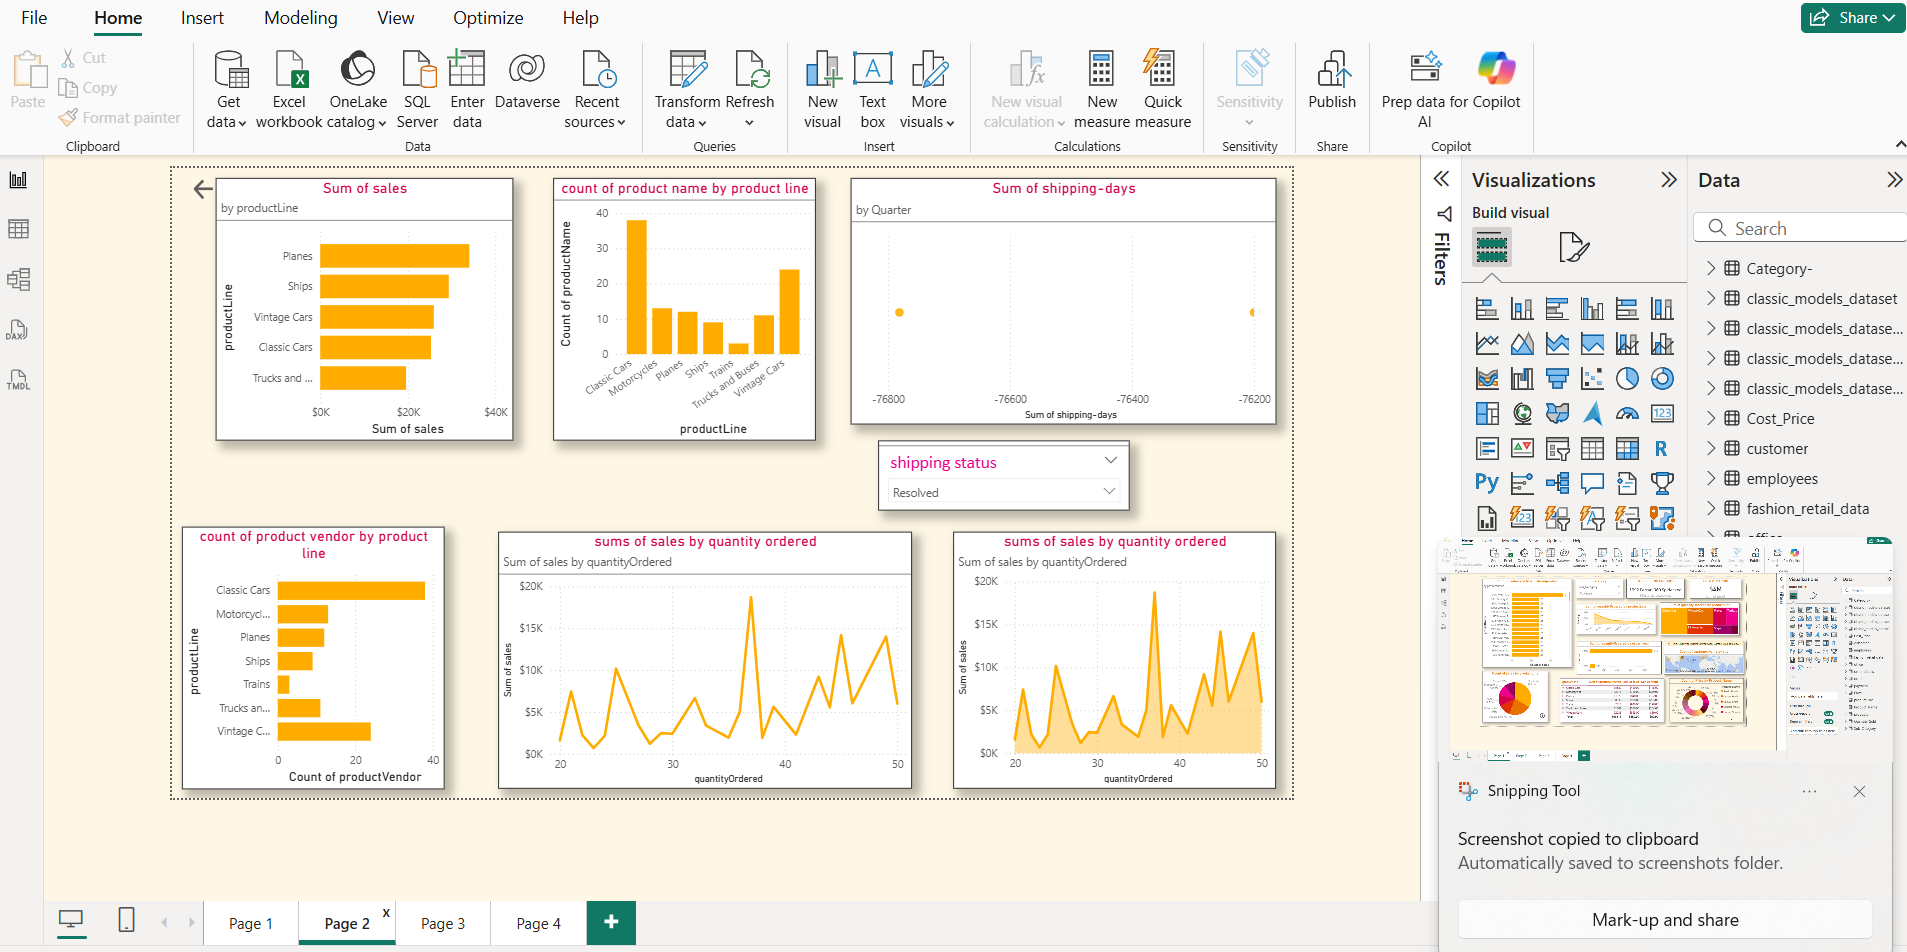

This screenshot's page, from the dashboard's own definition file:
{"tool":"powerbi","page":{"name":"Page 2","canvas":[1280,720],"ordinal":1},"visuals":[{"type":"actionButton","box":[0,0,100,40],"z":0},{"type":"barChart","fields":{"Category":["products.productLine"],"Y":["Sum(order details.sales)"]},"box":[50,11.2,340,300],"z":1000},{"type":"barChart","title":"count of product vendor by product line ","fields":{"Category":["product line.productLine"],"Y":["CountNonNull(products.productVendor)"]},"box":[11.2,410,300,300],"z":2000},{"type":"clusteredColumnChart","title":"count of product name by product line ","fields":{"Category":["product line.productLine"],"Y":["CountNonNull(products.productName)"]},"box":[436.2,11.2,300,300],"z":3000},{"type":"lineChart","title":"sums of sales by quantity ordered ","fields":{"Category":["order details.quantityOrdered"],"Y":["Sum(order details.sales)"]},"box":[372.5,416.2,472.5,293.8],"z":4000},{"type":"scatterChart","fields":{"Category":["orders.shippedDate.Variation.Date Hierarchy.Quarter","orders.shippedDate.Variation.Date Hierarchy.Day"],"X":["Sum(orders.shipping-days)"]},"box":[775,11.2,486.2,281.2],"z":5000},{"type":"areaChart","title":"sums of sales by quantity ordered ","fields":{"Category":["order details.quantityOrdered"],"Y":["Sum(order details.sales)"]},"box":[892.5,416.2,368.8,293.8],"z":6000},{"type":"slicer","fields":{"Values":["orders.status"]},"box":[807.5,311.2,287.5,80],"z":7000}]}

Visuals, with their boxes on the page's 1280x720 design canvas (x1, y1, x2, y2). These are canvas units, not pixel positions in the 1907x952 screenshot, which may show the page scaled, cropped or inside an application window:
actionButton: BBox(0, 0, 100, 40)
barChart - products.productLine x Sum(order details.sales): BBox(50, 11, 390, 311)
"count of product vendor by product line " barChart: BBox(11, 410, 311, 710)
"count of product name by product line " clusteredColumnChart: BBox(436, 11, 736, 311)
"sums of sales by quantity ordered " lineChart: BBox(372, 416, 845, 710)
scatterChart - orders.shippedDate.Variation.Date Hierarchy.Quarter x orders.shippedDate.Variation.Date Hierarchy.Day: BBox(775, 11, 1261, 292)
"sums of sales by quantity ordered " areaChart: BBox(892, 416, 1261, 710)
slicer - orders.status: BBox(808, 311, 1095, 391)
